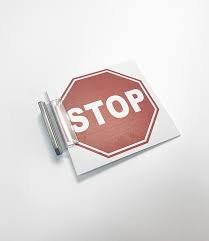SS: (57, 77, 153, 153)
